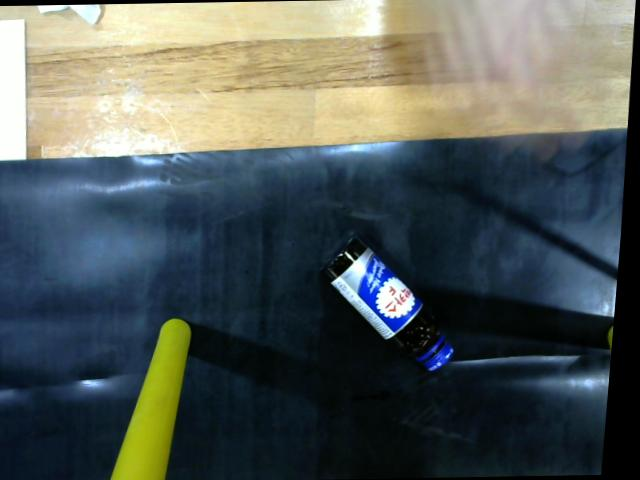glass: (319, 222, 470, 382)
